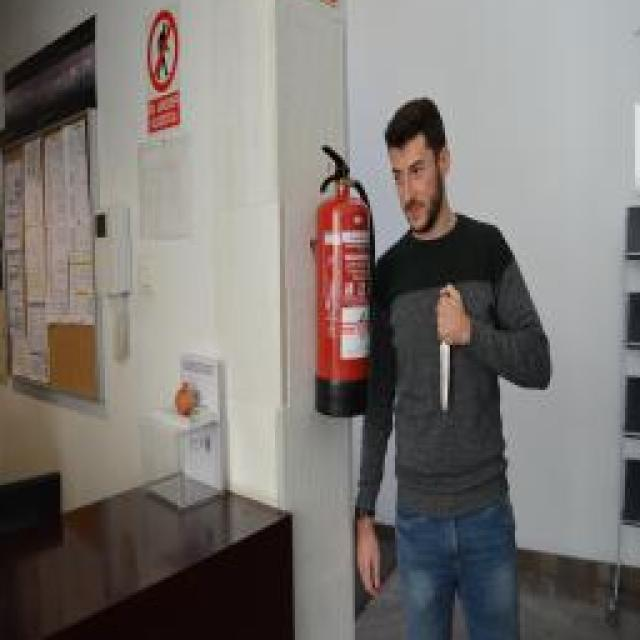knife: (434, 288, 455, 417)
